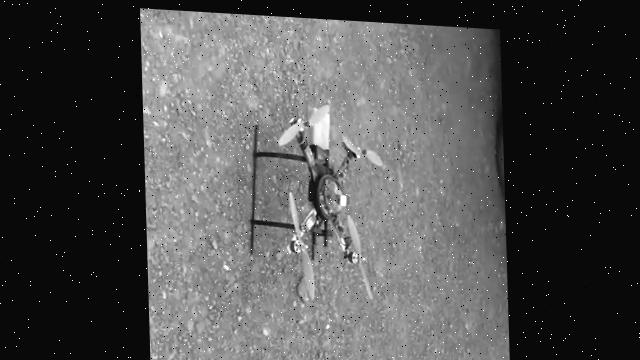drone: (230, 92, 393, 303)
